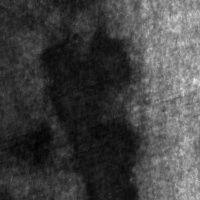patches: (40, 26, 146, 198), (3, 121, 57, 171)
